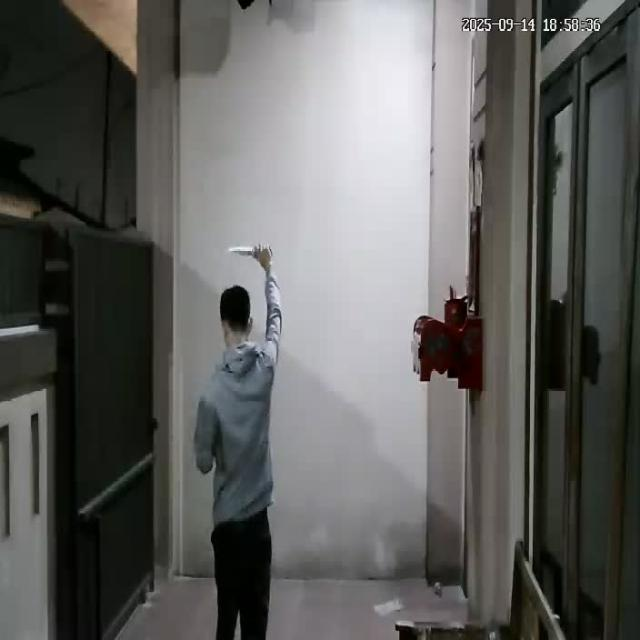senjata_tajam: (227, 246, 258, 260)
